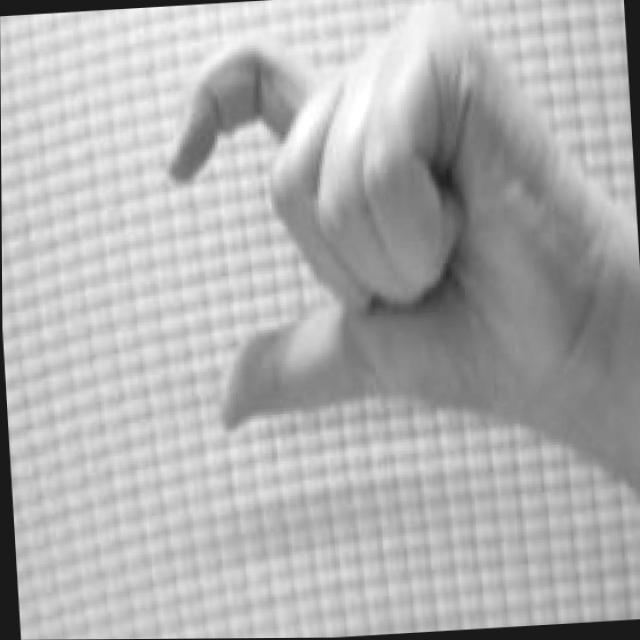C: (160, 0, 640, 432)
